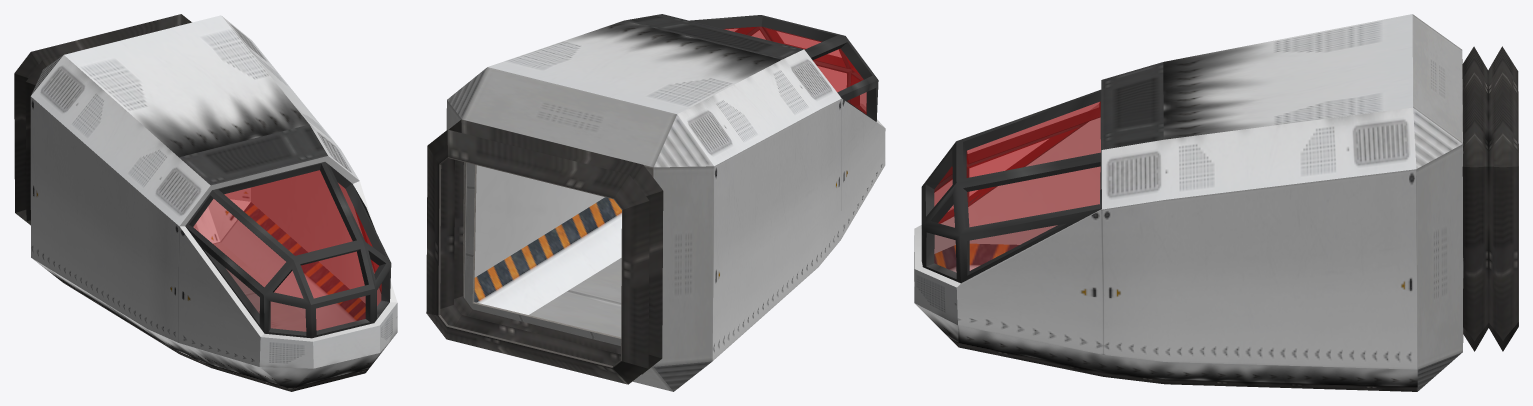
The model's file is Colony_UFO_Art.fbx.
3 renders of one model, left to right at view 1: azimuth 30°, elevation 25°; view 2: azimuth 150°, elevation 25°; view 3: azimuth 270°, elevation 25°, orthographic. The views are drawn at different scales.
Visible parts, largest first — view 1: Colony_UFO_Art; view 2: Colony_UFO_Art; view 3: Colony_UFO_Art.
Part boxes in pixels (<box>): Colony_UFO_Art: <box>14,14,397,391</box>; Colony_UFO_Art: <box>426,14,885,391</box>; Colony_UFO_Art: <box>914,14,1518,391</box>.
Bounding box in the file's own units: 364 × 360 × 693.
